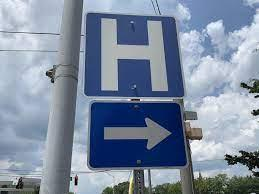Hospital: (86, 15, 181, 161)
